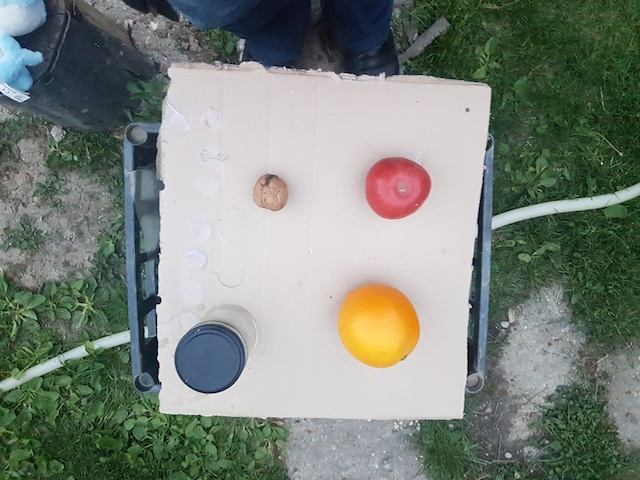apple: (364, 158, 431, 226)
nut: (251, 171, 293, 211)
orange: (338, 285, 421, 370)
recipient: (176, 327, 245, 396)
